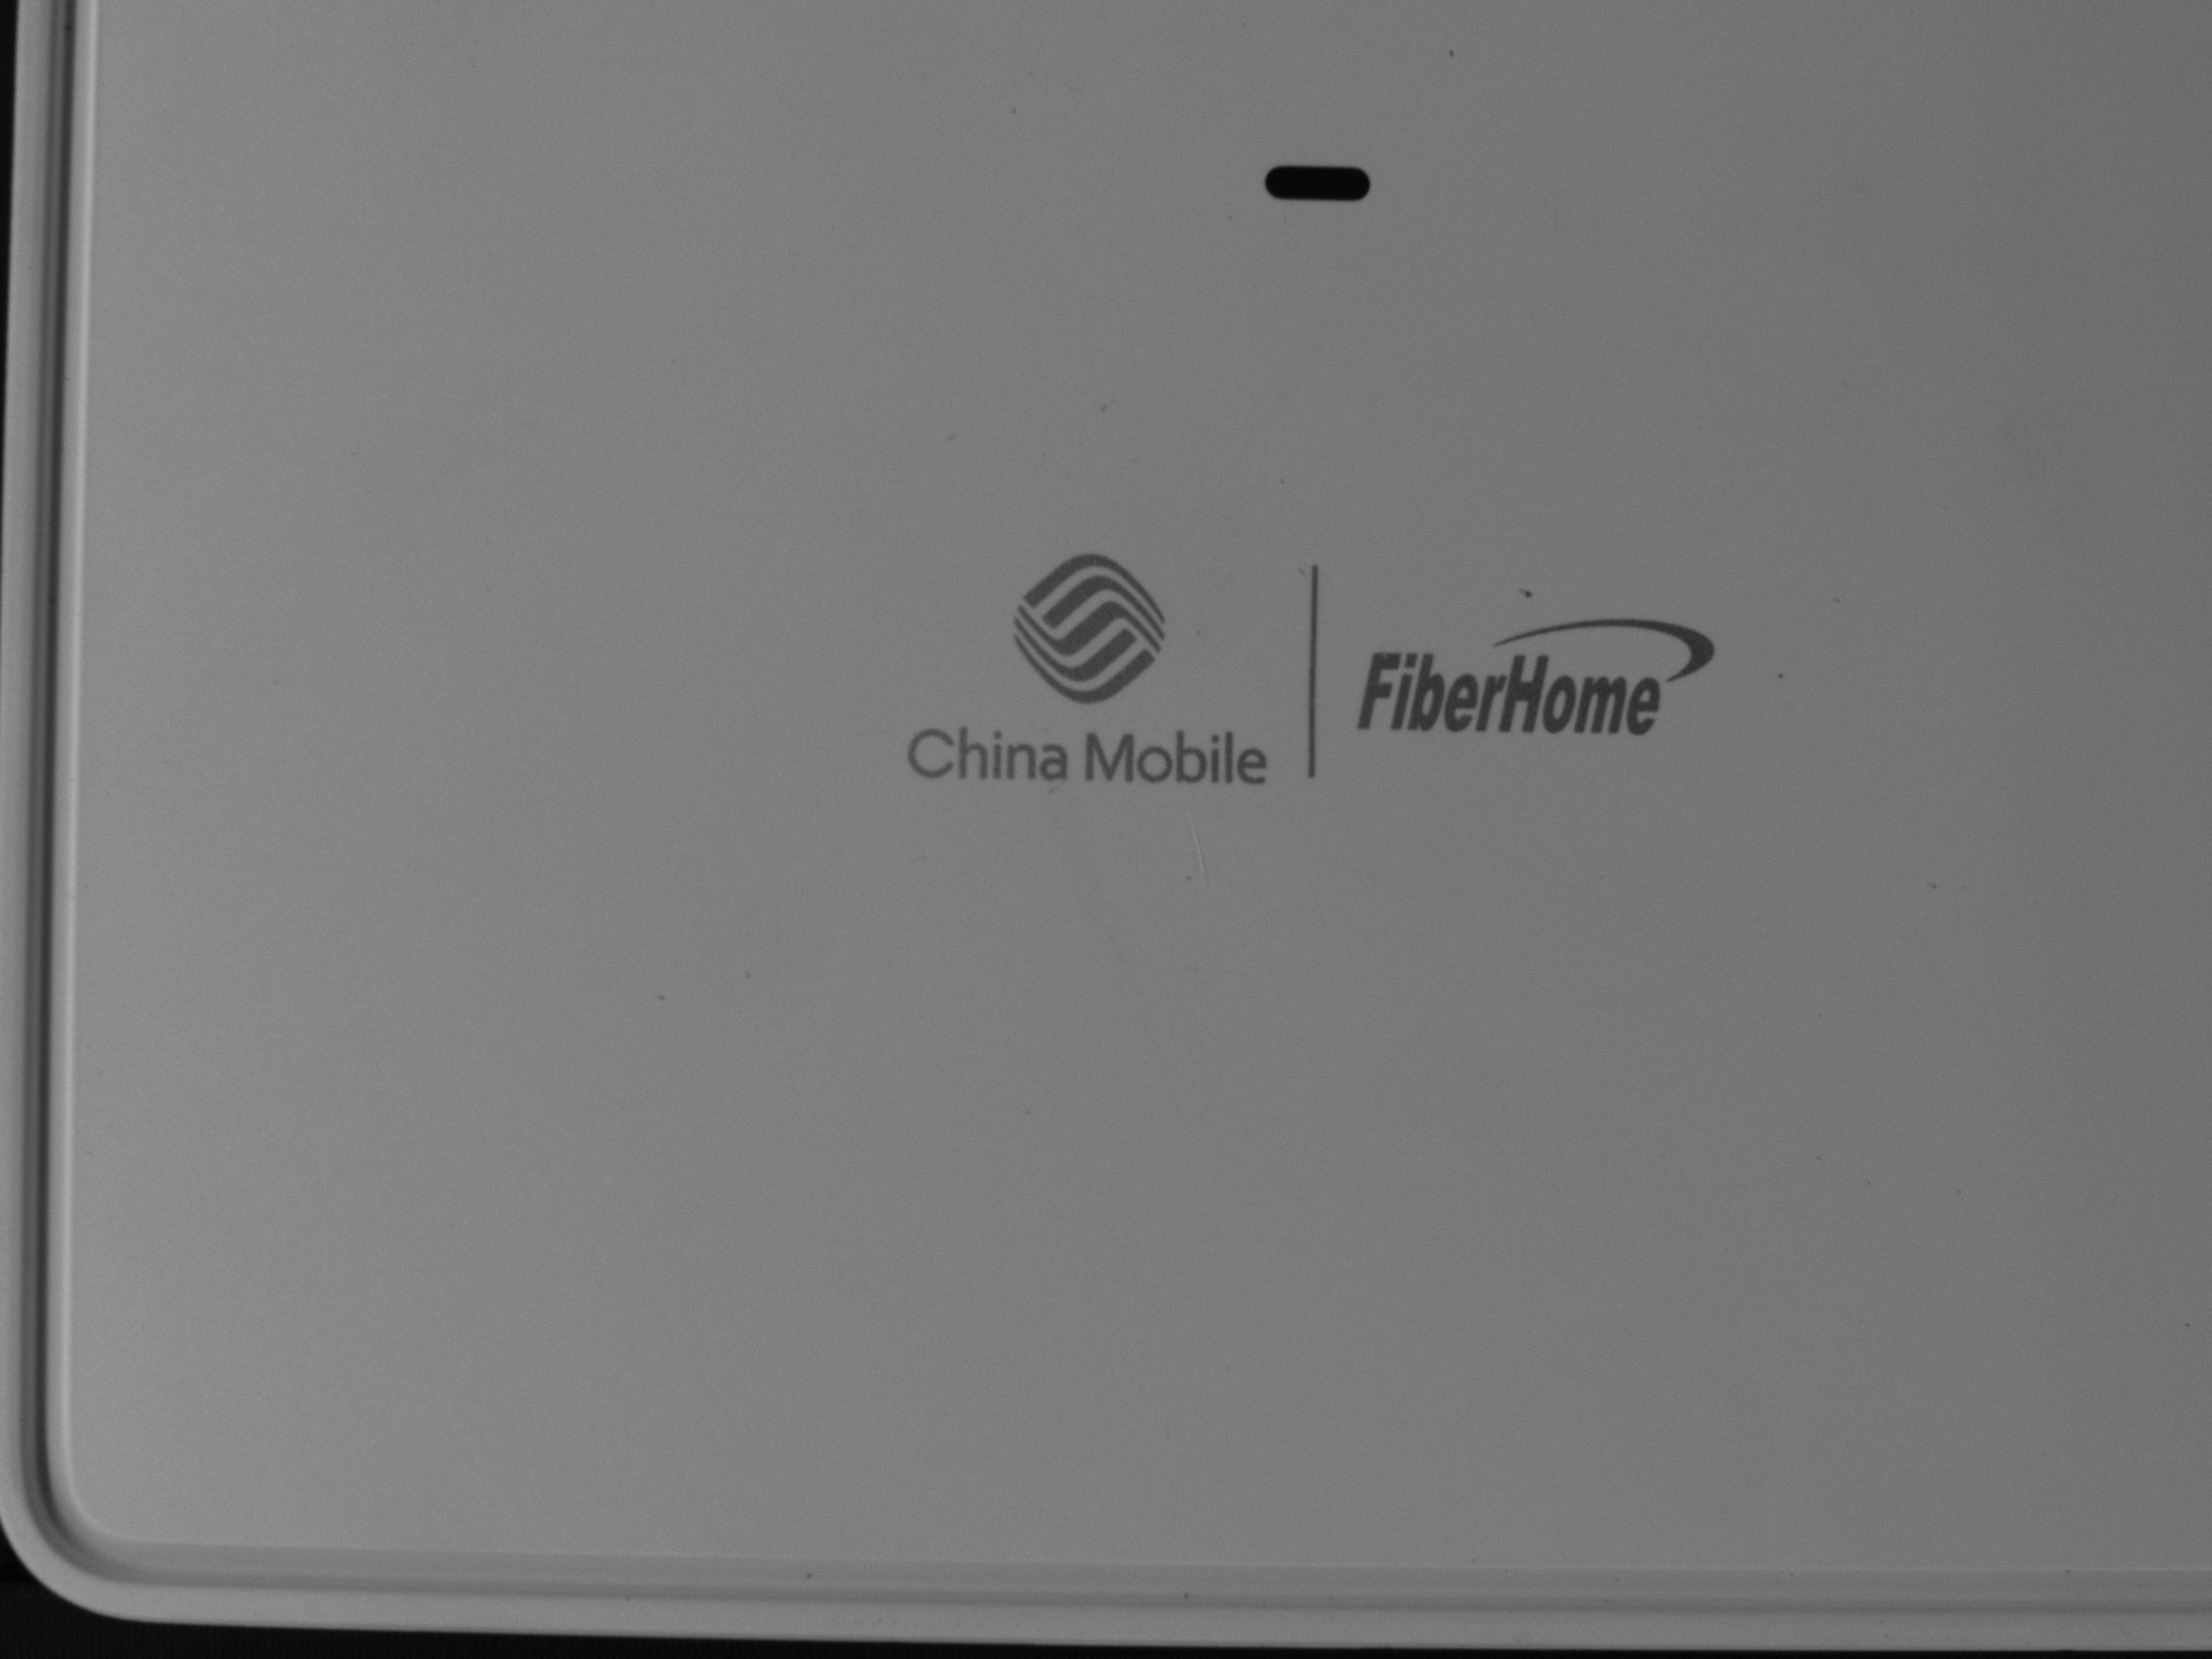BX_HG6371FMobileFiberhome: (871, 498, 1719, 802)
